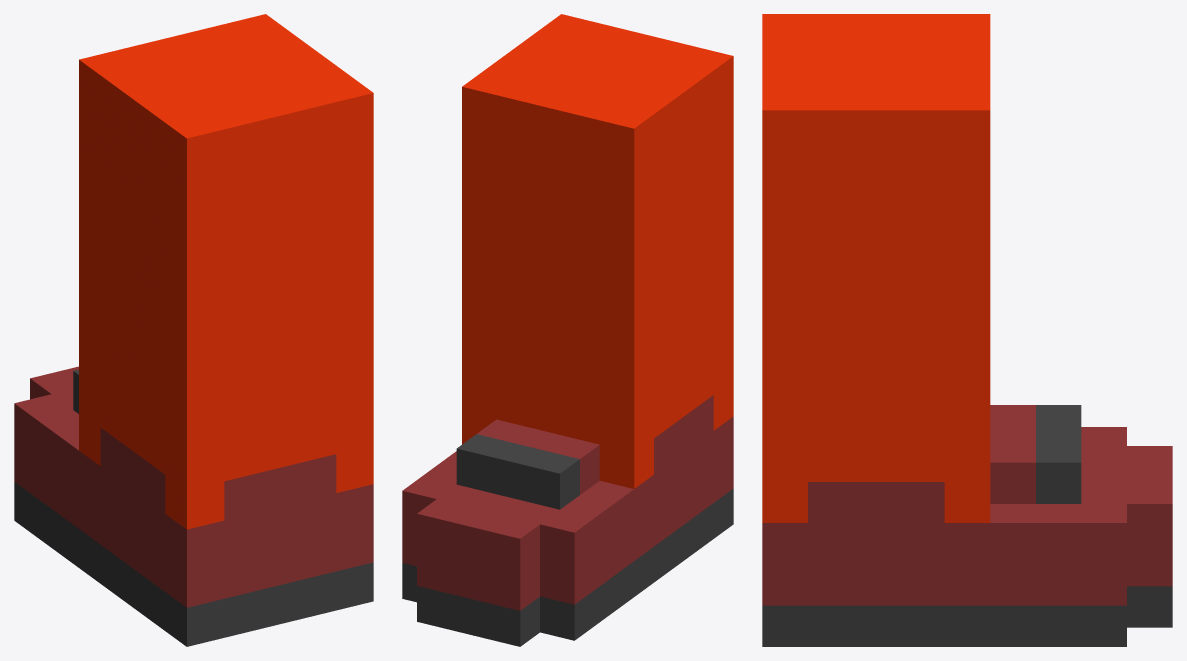
The model's file is Foot.fbx.
3 renders of one model, left to right at view 1: azimuth 30°, elevation 25°; view 2: azimuth 150°, elevation 25°; view 3: azimuth 270°, elevation 25°, orthographic. The views are drawn at different scales.
Parts seen in each view (by area): view 1: Куб.165; view 2: Куб.165; view 3: Куб.165.
Part boxes in pixels (left/top/right/bottom): Куб.165: left=14, top=14, right=373, bottom=646; Куб.165: left=402, top=14, right=733, bottom=646; Куб.165: left=762, top=14, right=1172, bottom=646.
Size of the model in its own units: 500 by 1300 by 900.
